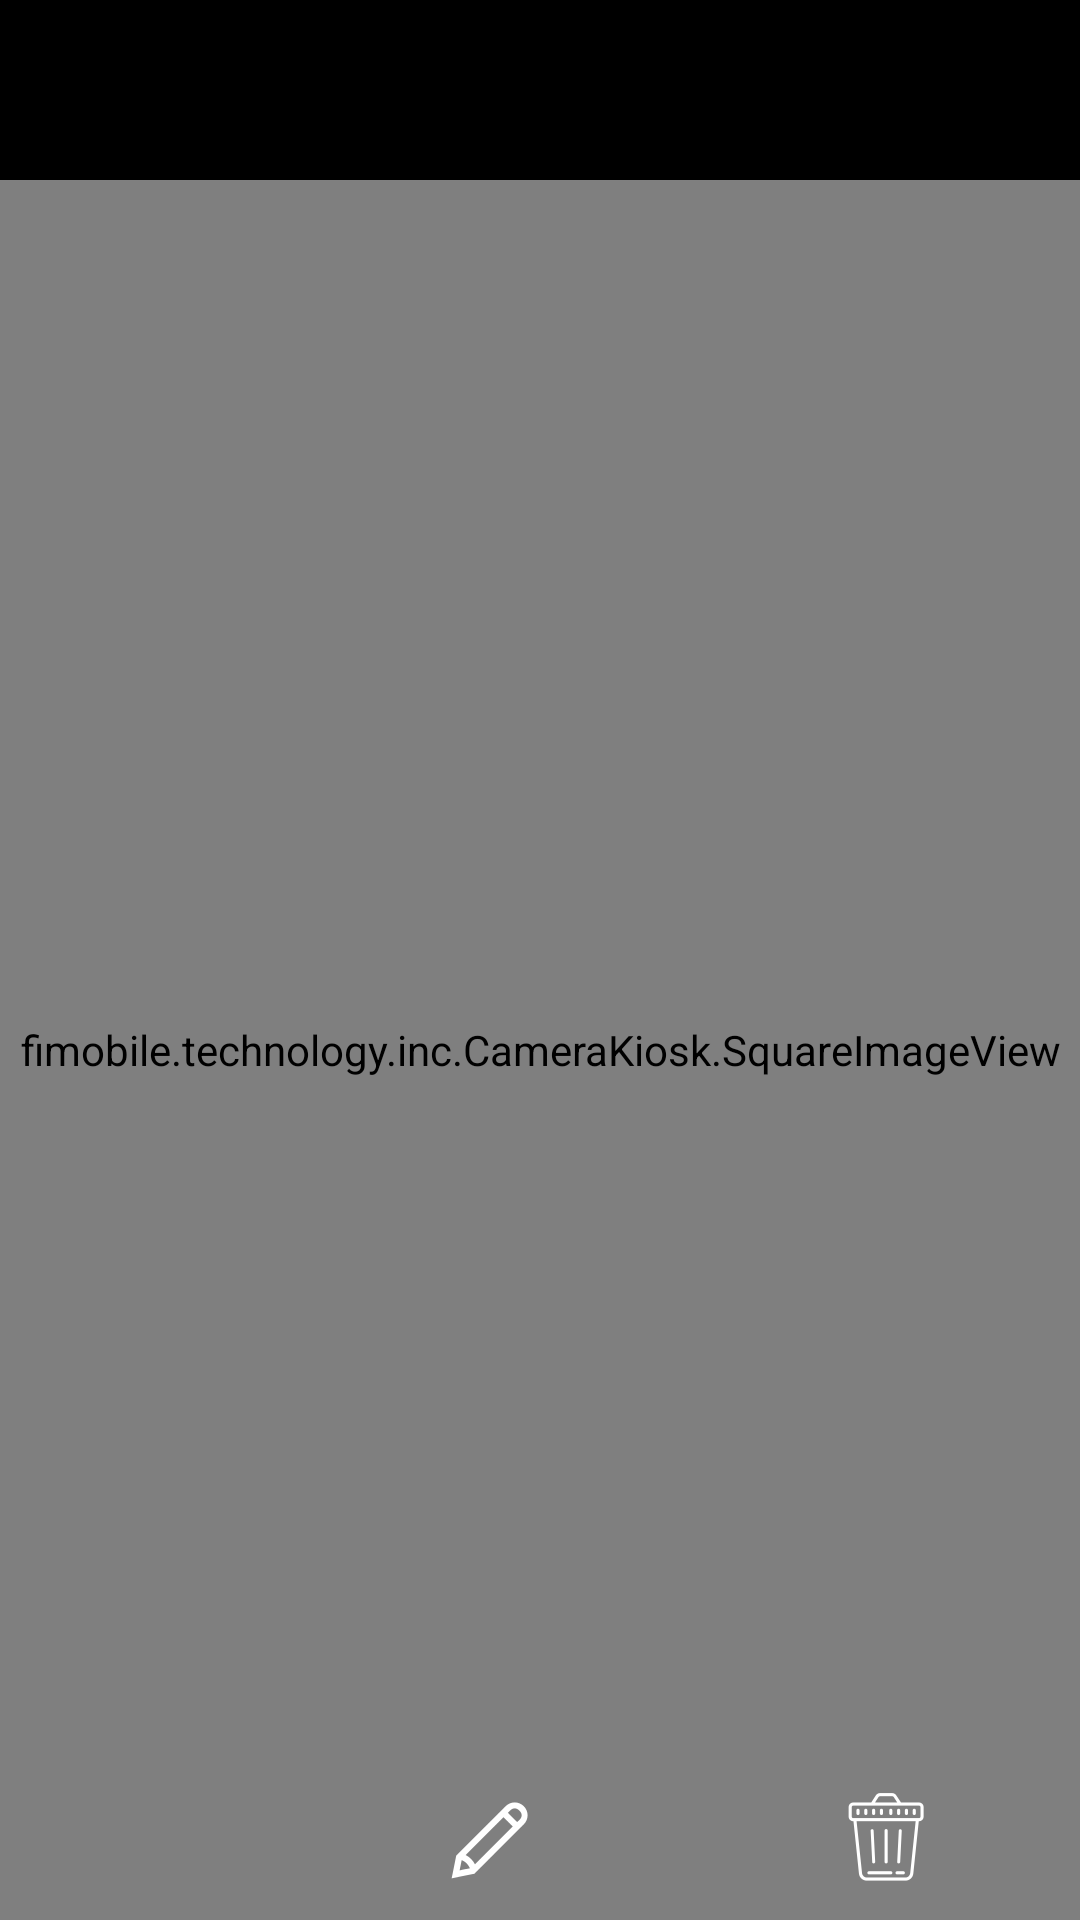

Where to tap for icons on this 1080 × 1920 app screen, as (x,y):
camerakiosk delete: (886,1837)
camerakiosk edit: (489,1840)
